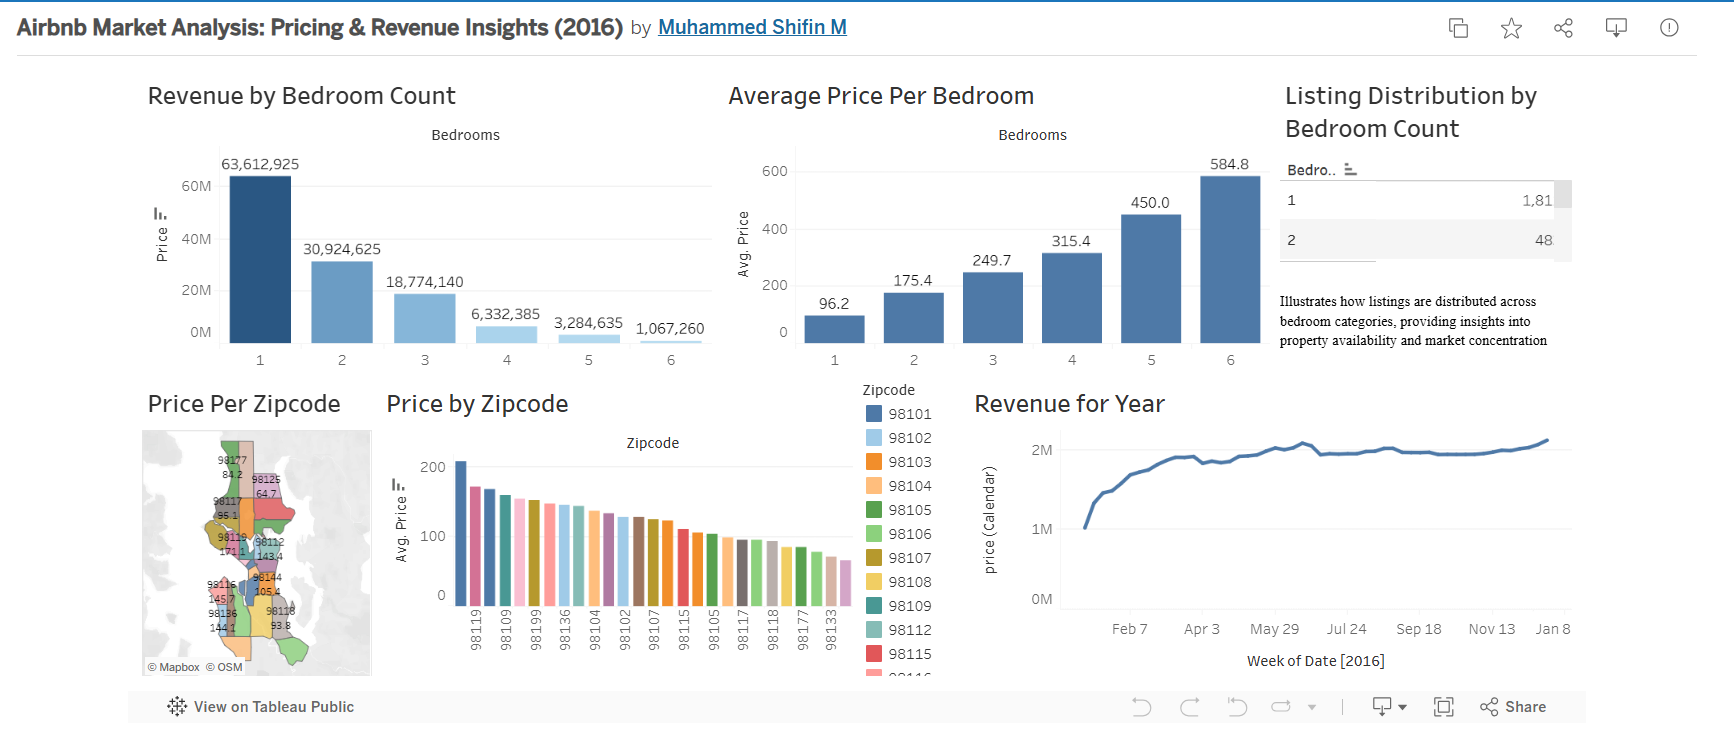

The dashboard page shown, as its layout file describes it:
{"tool":"tableau","page":{"name":"Airbnb Market Analysis Dashboard (2016)","canvas":[1000,1000],"units":"permille","ordinal":0},"visuals":[{"type":"worksheet","title":"Revenue by Bedrooms","mark":"Automatic","rows":["price"],"cols":["bedrooms"],"box":[5,9.1,399.6,490.9]},{"type":"worksheet","title":"Avg Price by Bedroom Count","mark":"Automatic","rows":["price"],"cols":["bedrooms"],"box":[404.6,9.1,382.8,490.9]},{"type":"worksheet","title":"Bedroom Count Distribution","mark":"Automatic","rows":["bedrooms"],"box":[787.4,9.1,207.6,490.9]},{"type":"worksheet","title":"Map ","mark":"Multipolygon","box":[5,500,164.6,490.9]},{"type":"worksheet","title":"Average Listing Price","mark":"Automatic","rows":["price"],"cols":["zipcode"],"box":[169.6,500,330.4,490.9]},{"type":"legend","title":"Average Listing Price","param":"[federated.1k8ito50f3jc0f18v5nor0jd4lly].[none:zipcode:ok]","box":[500,500,73.6,490.9]},{"type":"worksheet","title":"Weekly Revenue Trend (2016)","mark":"Automatic","rows":["price (Calendar)"],"cols":["date"],"box":[573.6,500,421.4,490.9]}]}

Visuals, with their boxes on the dashboard's canvas, which has no fixed pixel size, in thousandths of its width and height (x1, y1, x2, y2). These are canvas units, not pixel positions in the 1734x747 screenshot, which may show the page scaled, cropped or inside an application window:
"Revenue by Bedrooms" worksheet: 5, 9, 405, 500
"Avg Price by Bedroom Count" worksheet: 405, 9, 787, 500
"Bedroom Count Distribution" worksheet: 787, 9, 995, 500
"Map " worksheet (Multipolygon marks): 5, 500, 170, 991
"Average Listing Price" worksheet: 170, 500, 500, 991
"Average Listing Price" legend: 500, 500, 574, 991
"Weekly Revenue Trend (2016)" worksheet: 574, 500, 995, 991
